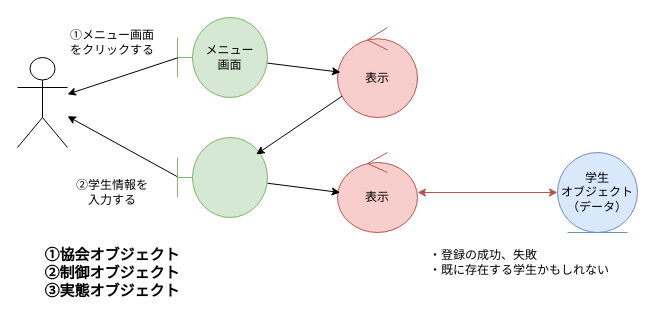
The diagram is 655 pixels wide and 317 high, and some of its shapes have lost their labels. Each missing label, with the centre of its shape:
"学生" belongs at (42,102).
"学生登録 画面" belongs at (222,177).
